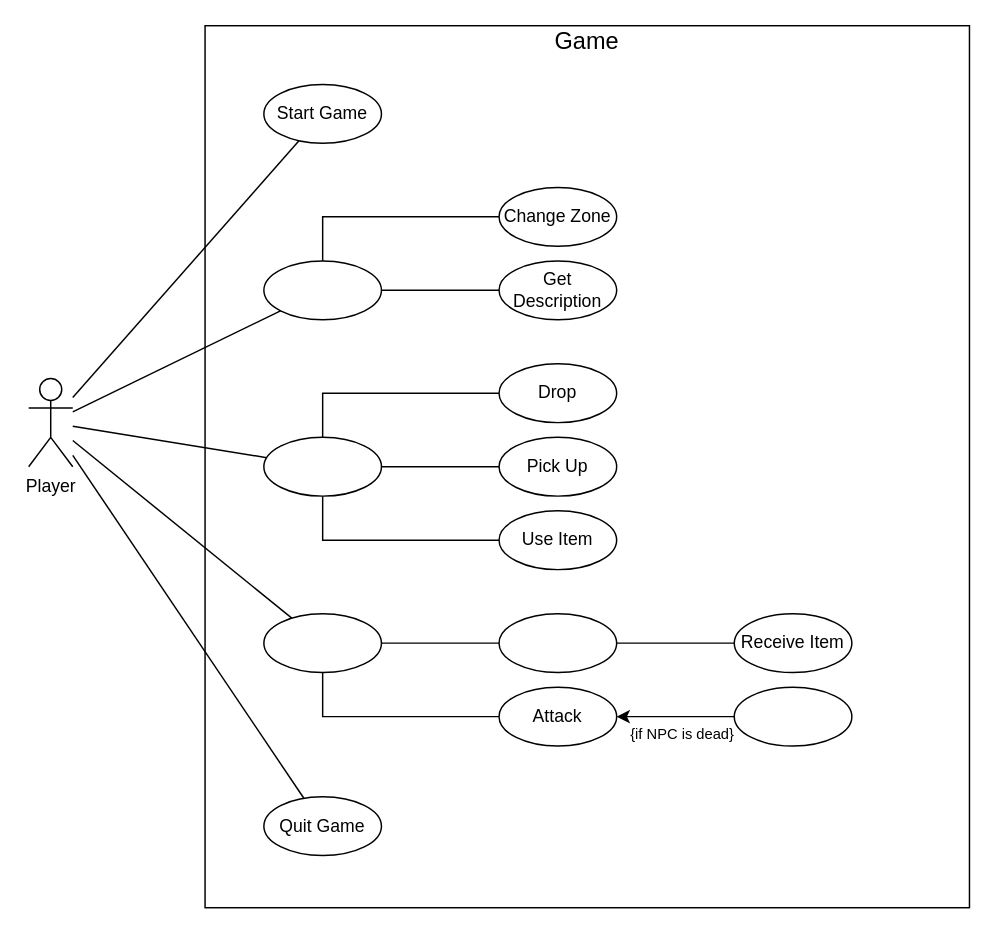
This 995x933 diagram has some shape labels left out. The box of each missing label's shape, as (x1, y1, x2, y2) in pixels:
Interact with Item: (262, 436, 381, 496)
Interact with NPC: (262, 612, 381, 673)
Navigate Rooms: (262, 259, 381, 320)
Take Items: (733, 686, 852, 746)
Talk: (498, 612, 617, 673)
